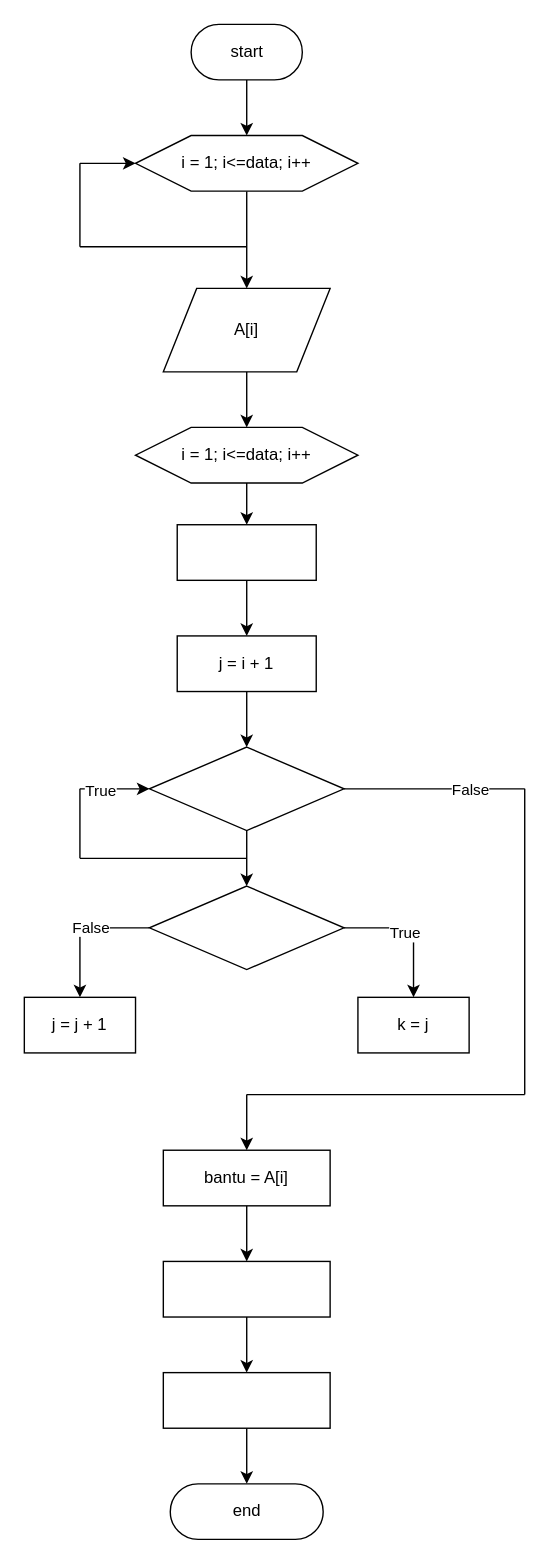
The diagram is 550 pixels wide and 1564 high, and some of its shapes have lost their labels. Each missing label, with the box of its shape:
A[i] = A[k]: (162, 1260, 330, 1317)
A[k] = bantu: (162, 1371, 330, 1428)
A[k] > A[j]: (148, 885, 344, 970)
j <= data: (148, 746, 344, 831)
k = i: (176, 523, 316, 580)
